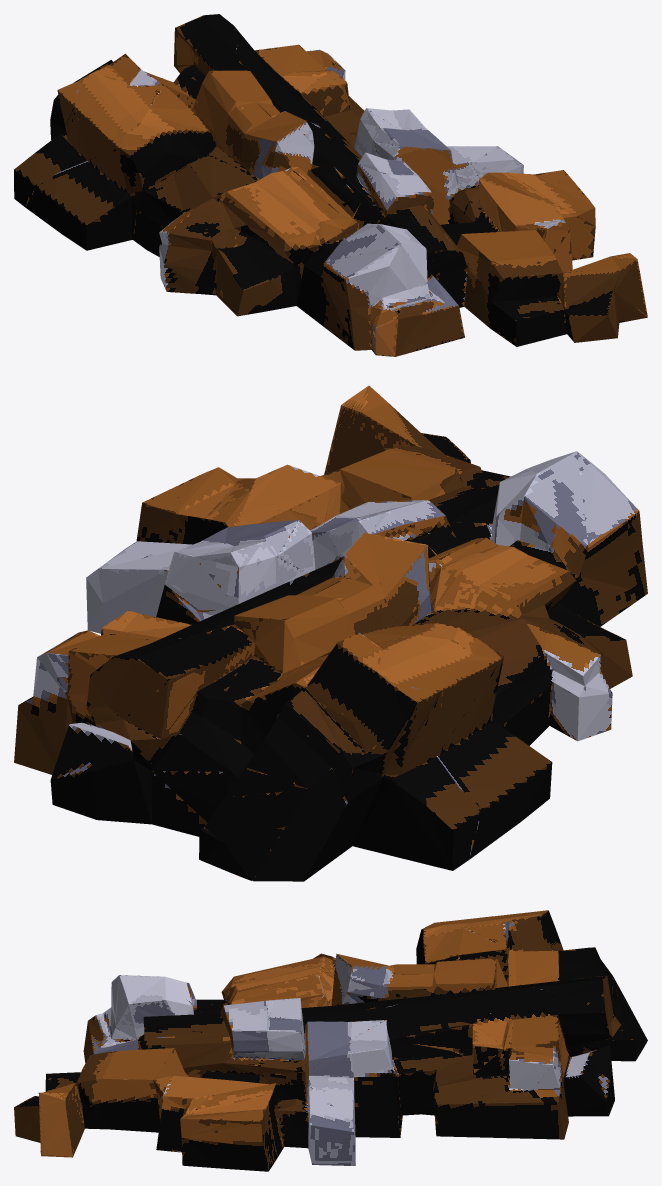
3 renders of one model, top to bottom at view 1: azimuth 30°, elevation 25°; view 2: azimuth 150°, elevation 25°; view 3: azimuth 270°, elevation 25°, orthographic. The views are drawn at different scales.
Visible parts, largest first — view 1: OBJ0d2; view 2: OBJ0d2; view 3: OBJ0d2.
Boxes of the visible parts, x1=… form: OBJ0d2: x1=14, y1=14, x2=647, y2=356; OBJ0d2: x1=14, y1=385, x2=647, y2=881; OBJ0d2: x1=14, y1=910, x2=647, y2=1171.
Bounding box in the file's own units: 0.3247 × 0.105 × 0.4875.
1 material, 1 textured.
